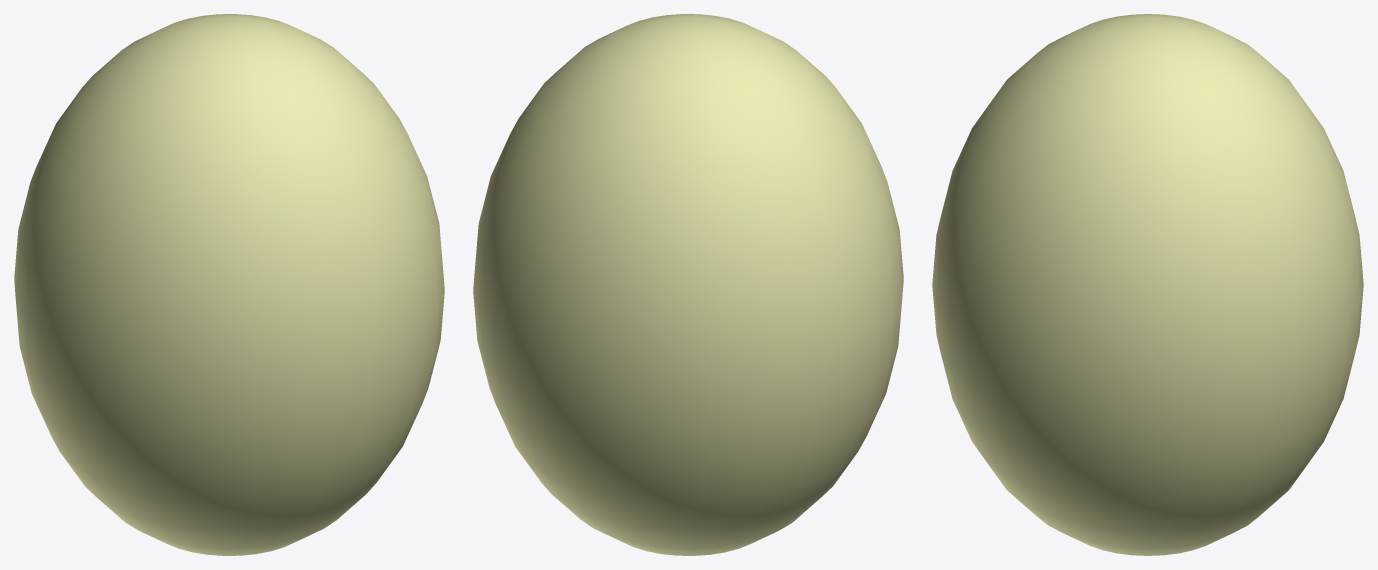
Rendered from guddu.glb.
3 views of the same model, side by side, from view 1: azimuth 30°, elevation 25°; view 2: azimuth 150°, elevation 25°; view 3: azimuth 270°, elevation 25° (orthographic).
Parts seen in each view (by area): view 1: Sphere; view 2: Sphere; view 3: Sphere.
Part boxes in pixels (x1,y1,x2,y2): Sphere: (14, 14, 444, 555); Sphere: (473, 14, 903, 555); Sphere: (932, 14, 1363, 555).
Bounding box in the file's own units: 2 × 2.61 × 2.
